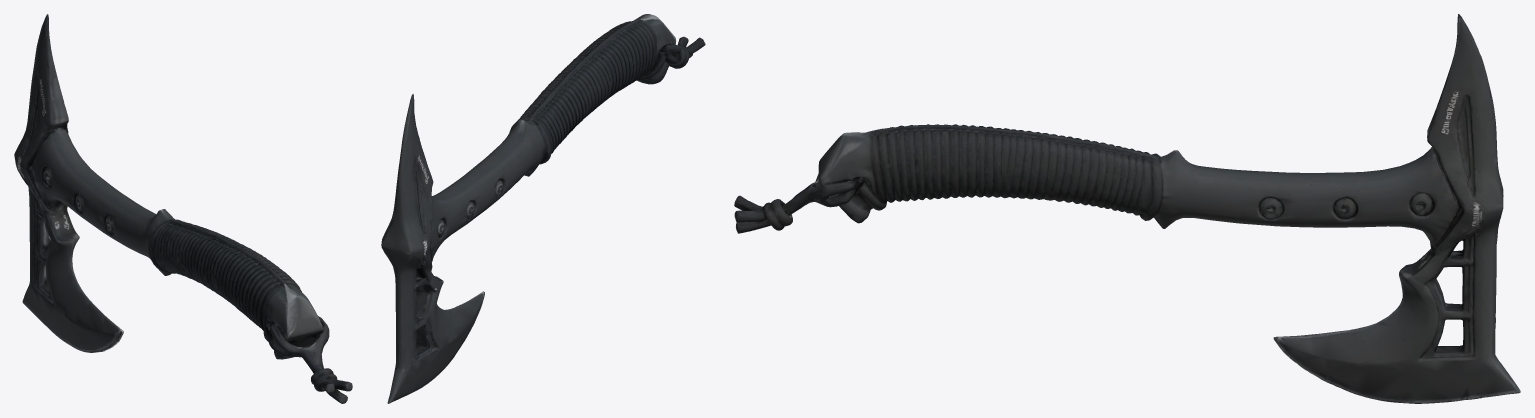
File: tomahawk.glb
3 renders of one model, left to right at view 1: azimuth 30°, elevation 25°; view 2: azimuth 150°, elevation 25°; view 3: azimuth 270°, elevation 25°, orthographic. The views are drawn at different scales.
Visible parts, largest first — view 1: TOMAHAWK; view 2: TOMAHAWK; view 3: TOMAHAWK.
Part boxes in pixels (<box>): TOMAHAWK: <box>14,14,352,403</box>; TOMAHAWK: <box>381,14,705,403</box>; TOMAHAWK: <box>734,14,1520,403</box>.
Size of the model in its own units: 0.0458 by 0.2621 by 0.4799.
1 material, 1 textured.
